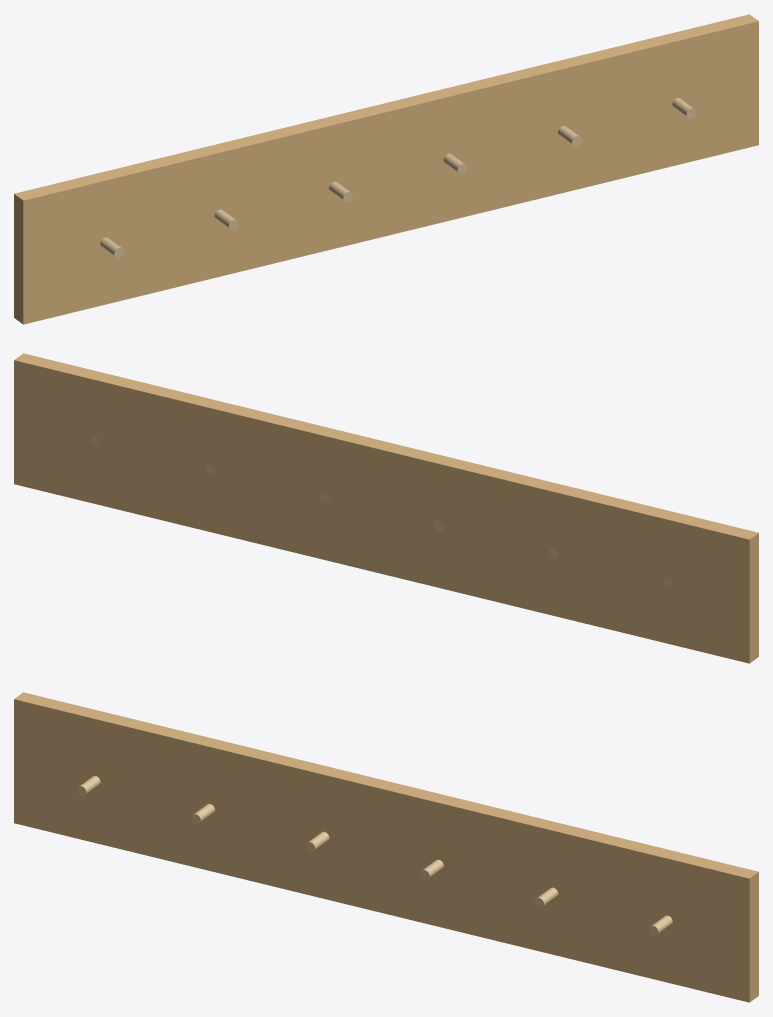
3 renders of one model, top to bottom at view 1: azimuth 30°, elevation 25°; view 2: azimuth 150°, elevation 25°; view 3: azimuth 330°, elevation 25°, orthographic.
Visible parts, largest first — view 1: board; view 2: board; view 3: board.
Boxes of the visible parts, x1,y1,x2,y2 form: board: (14, 14, 758, 324); board: (14, 353, 758, 663); board: (14, 692, 758, 1002).
Bounding box in the file's own units: 900 × 145 × 50.
